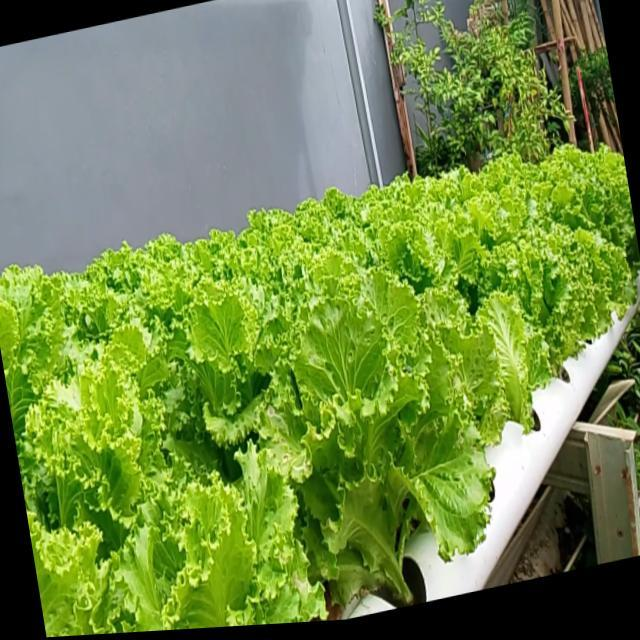Mature: (0, 138, 640, 637), (293, 284, 503, 587), (489, 181, 640, 404)
